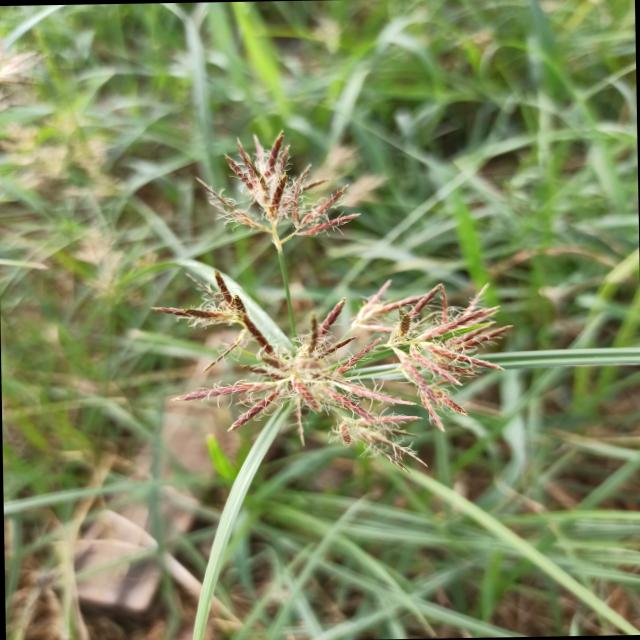cyperus: (150, 264, 526, 476), (184, 122, 376, 257), (0, 29, 54, 151)
